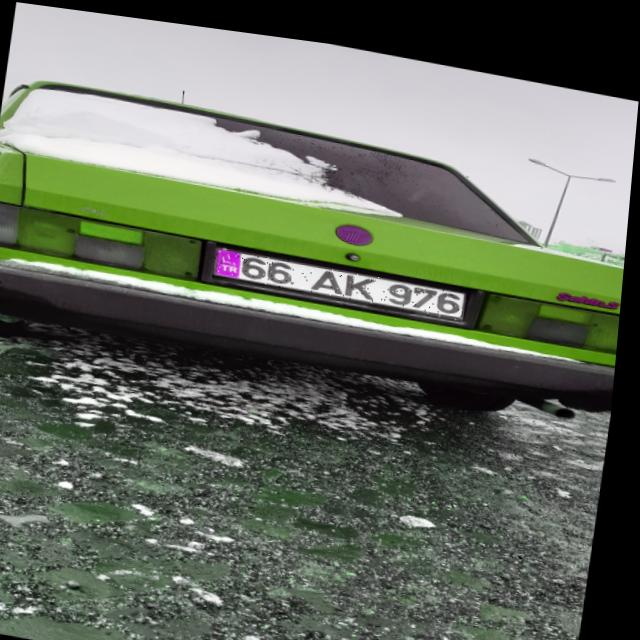license_plate: (216, 240, 472, 308)
